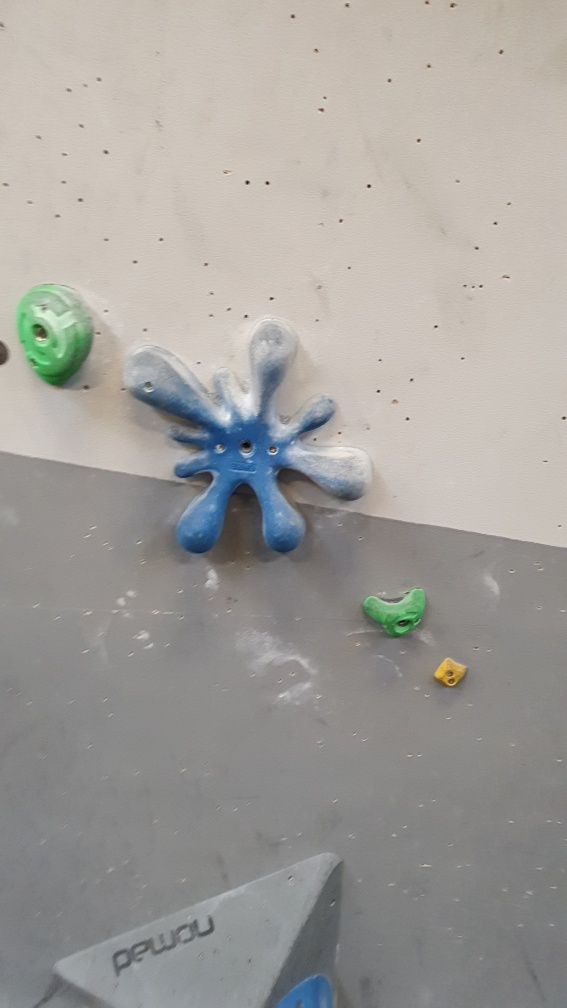Jug: (361, 578, 431, 642)
Octopus Pinch: (113, 310, 380, 562)
